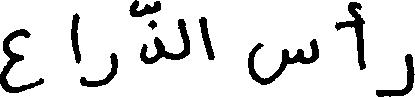X: (251, 34, 316, 89), (0, 24, 39, 96), (339, 0, 363, 74), (380, 49, 414, 96), (80, 48, 116, 91), (143, 0, 161, 68), (201, 12, 212, 64), (179, 14, 187, 64), (72, 8, 78, 68)
